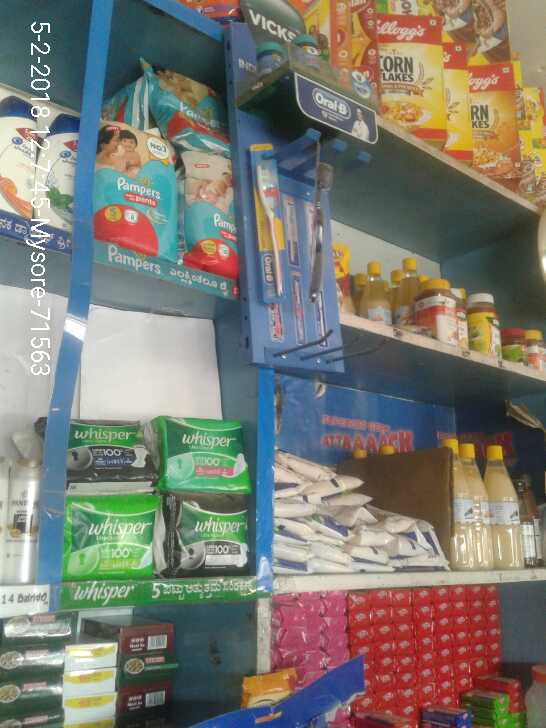beauty: (33, 112, 77, 232), (2, 95, 39, 219)
pharmacy: (94, 112, 173, 258), (170, 138, 240, 271), (157, 408, 255, 501), (65, 411, 159, 488), (167, 500, 256, 580), (248, 140, 290, 305), (64, 507, 153, 577), (133, 72, 220, 134)
